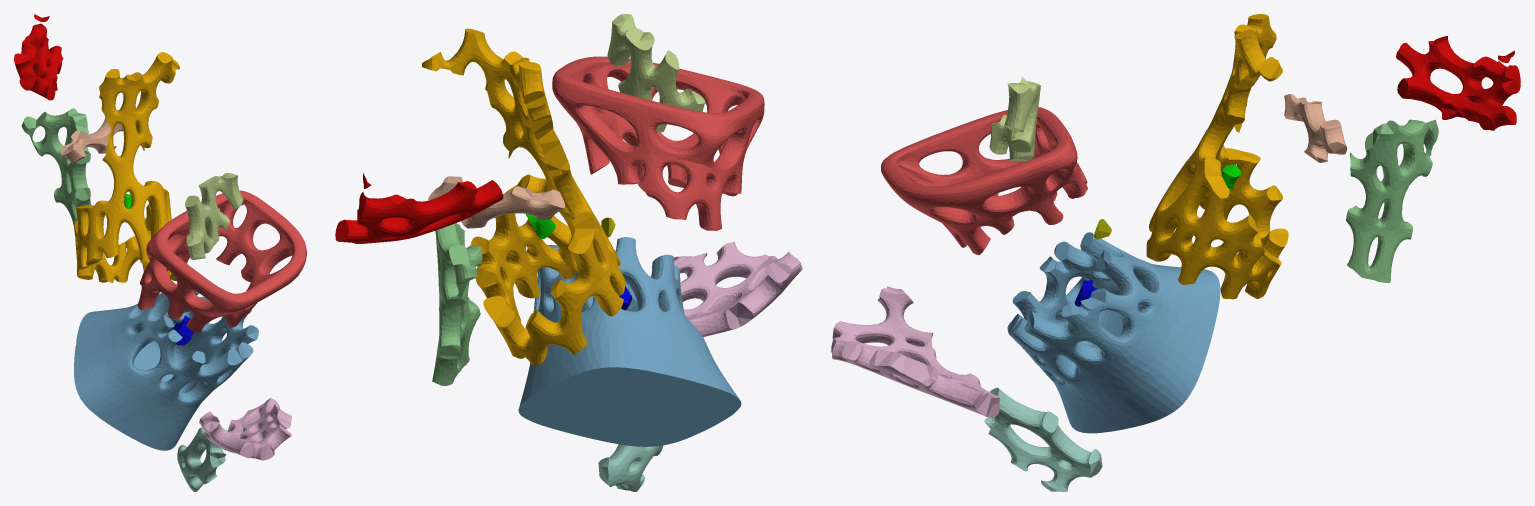
The model's file is fractured_69_12pcs_transformed.glb.
3 renders of one model, left to right at view 1: azimuth 30°, elevation 25°; view 2: azimuth 150°, elevation 25°; view 3: azimuth 270°, elevation 25°, orthographic. The views are drawn at different scales.
Visible parts, largest first — view 1: piece_2.obj, piece_0.obj, piece_1.obj, piece_6.obj, piece_3.obj, piece_5.obj, piece_9.obj, piece_4.obj, piece_7.obj, piece_10.obj; view 2: piece_2.obj, piece_0.obj, piece_1.obj, piece_6.obj, piece_9.obj, piece_3.obj, piece_5.obj, piece_7.obj, piece_4.obj; view 3: piece_2.obj, piece_0.obj, piece_1.obj, piece_3.obj, piece_6.obj, piece_9.obj, piece_4.obj, piece_5.obj, piece_7.obj.
Part boxes in pixels (x1,y1,x2,y2): piece_2.obj: (74,291,258,450); piece_0.obj: (73,52,179,282); piece_1.obj: (138,190,306,332); piece_6.obj: (199,398,291,460); piece_3.obj: (21,108,91,225); piece_5.obj: (185,173,243,259); piece_9.obj: (14,14,63,100); piece_4.obj: (177,427,227,491); piece_7.obj: (60,118,123,163); piece_10.obj: (172,315,193,345); piece_2.obj: (518,237,741,446); piece_0.obj: (421,28,625,365); piece_1.obj: (552,56,764,230); piece_6.obj: (650,242,802,337); piece_9.obj: (335,173,503,243); piece_3.obj: (432,223,482,385); piece_5.obj: (607,14,705,132); piece_7.obj: (428,176,564,228); piece_4.obj: (598,444,663,491); piece_2.obj: (1007,232,1220,433); piece_0.obj: (1146,14,1288,299); piece_1.obj: (881,107,1087,255); piece_3.obj: (1346,119,1438,283); piece_6.obj: (831,286,999,417); piece_9.obj: (1396,36,1520,130); piece_4.obj: (984,388,1102,491); piece_5.obj: (989,77,1040,161); piece_7.obj: (1284,94,1347,162).
Bounding box in the file's own units: 0.4971 × 1.06 × 1.36.
